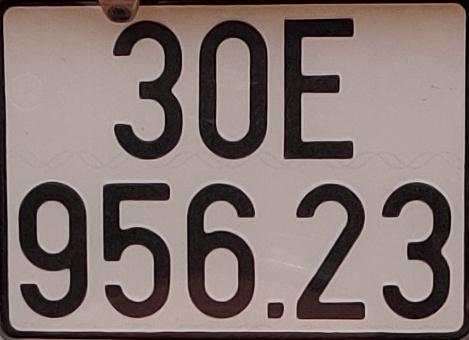.: (267, 302, 284, 317)
0: (199, 21, 268, 161)
2: (298, 183, 365, 320)
3: (382, 182, 451, 319), (116, 19, 182, 160)
5: (103, 183, 170, 318)
6: (187, 183, 254, 318)
9: (19, 183, 87, 317)
E: (285, 19, 353, 160)
